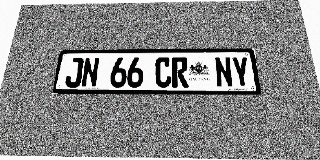6: (110, 57, 128, 87), (126, 57, 144, 87)
C: (155, 57, 171, 87)
J: (64, 58, 84, 88)
N: (214, 57, 233, 87), (81, 58, 100, 87)
R: (172, 57, 189, 87)
Y: (231, 56, 251, 87)
